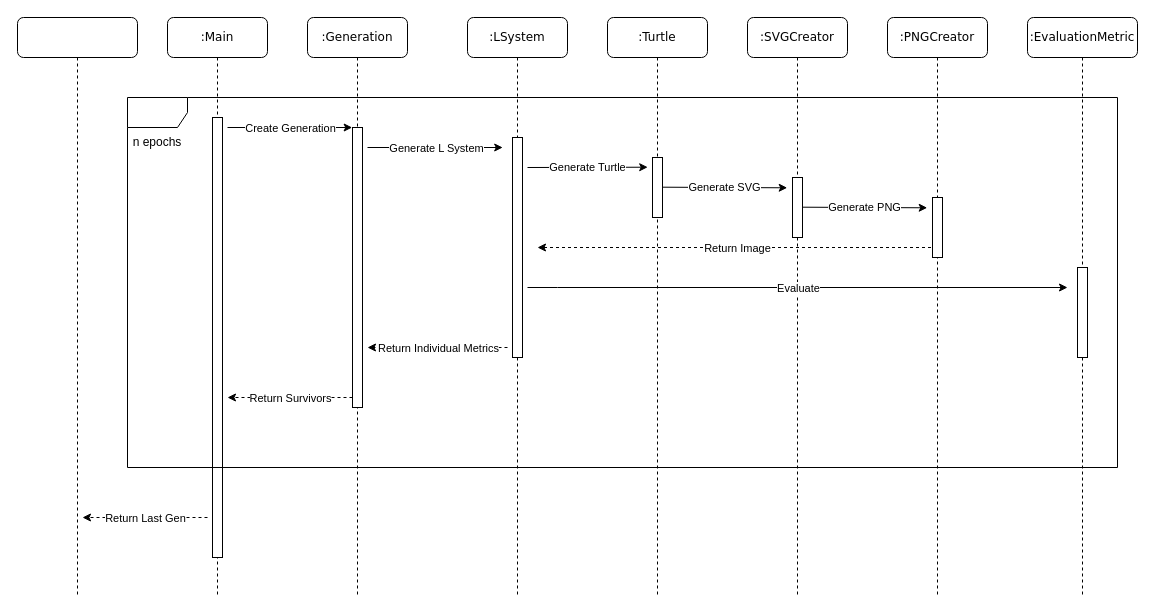
Some shapes in this 1155 by 615 pixel diagram are drawn without their labels. The box of each missing label's shape, as (x1, y1, x2, y2) in pixels:
:View: (16, 16, 138, 598)
loop: (126, 96, 1118, 468)
